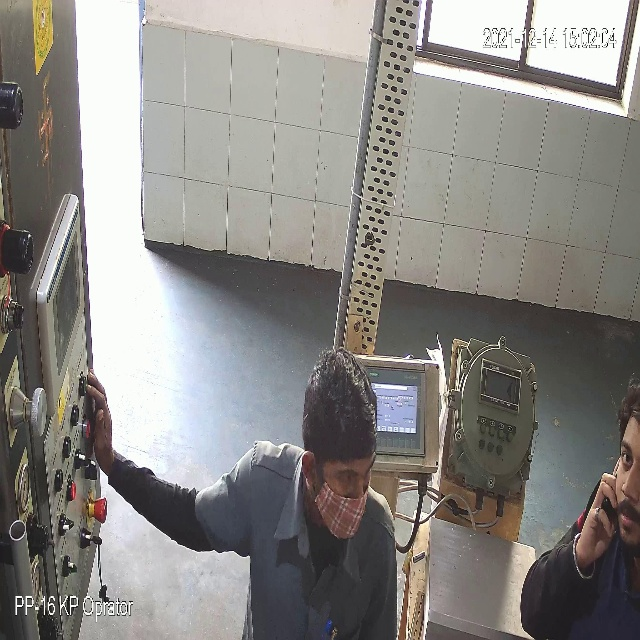Sin_gafas: (322, 451, 379, 500)
